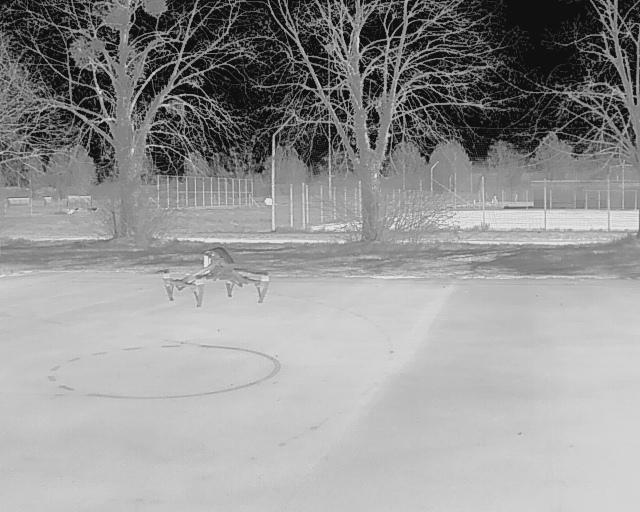drone: (142, 243, 289, 313)
